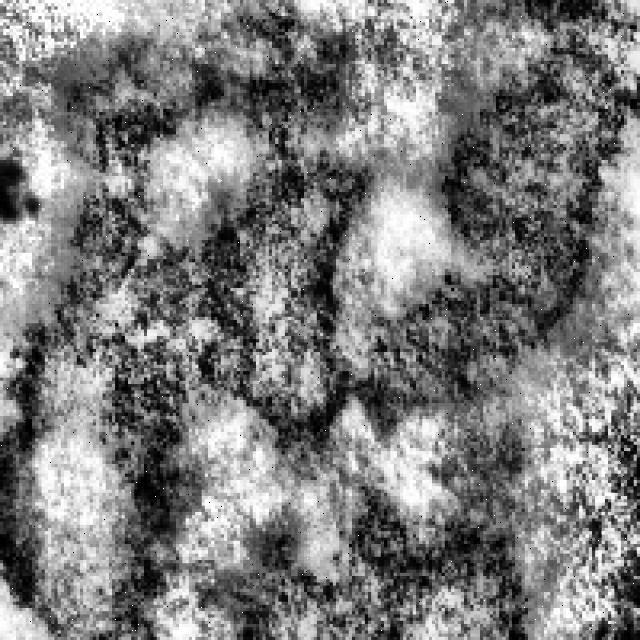Scratches: (68, 0, 358, 458), (368, 0, 640, 445), (231, 474, 554, 634)
